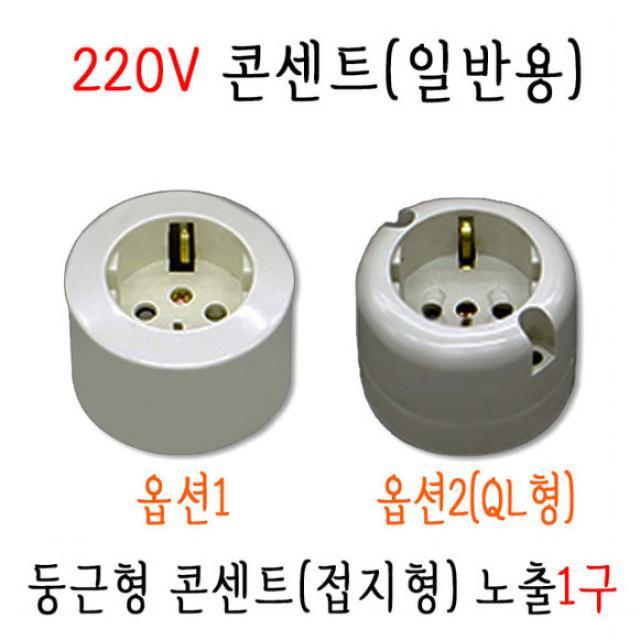typeb: (49, 164, 328, 466)
